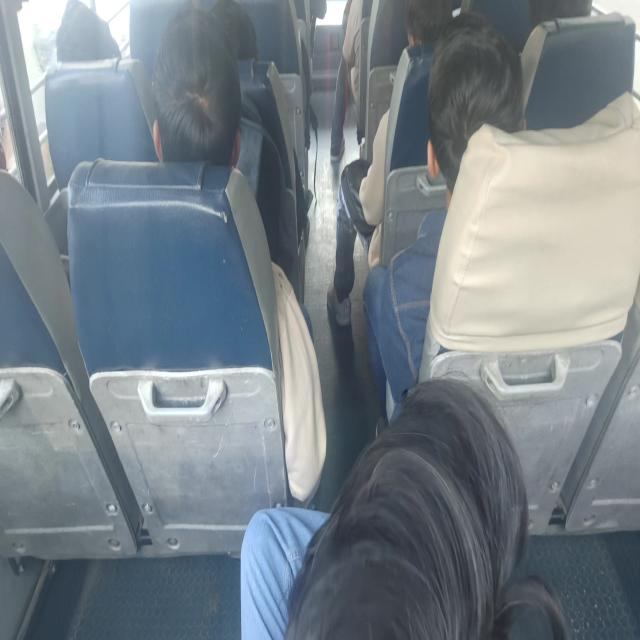person: (150, 7, 327, 504), (240, 375, 570, 638), (362, 13, 525, 425), (326, 0, 453, 327), (151, 7, 242, 167), (329, 0, 362, 162), (55, 0, 122, 63)
